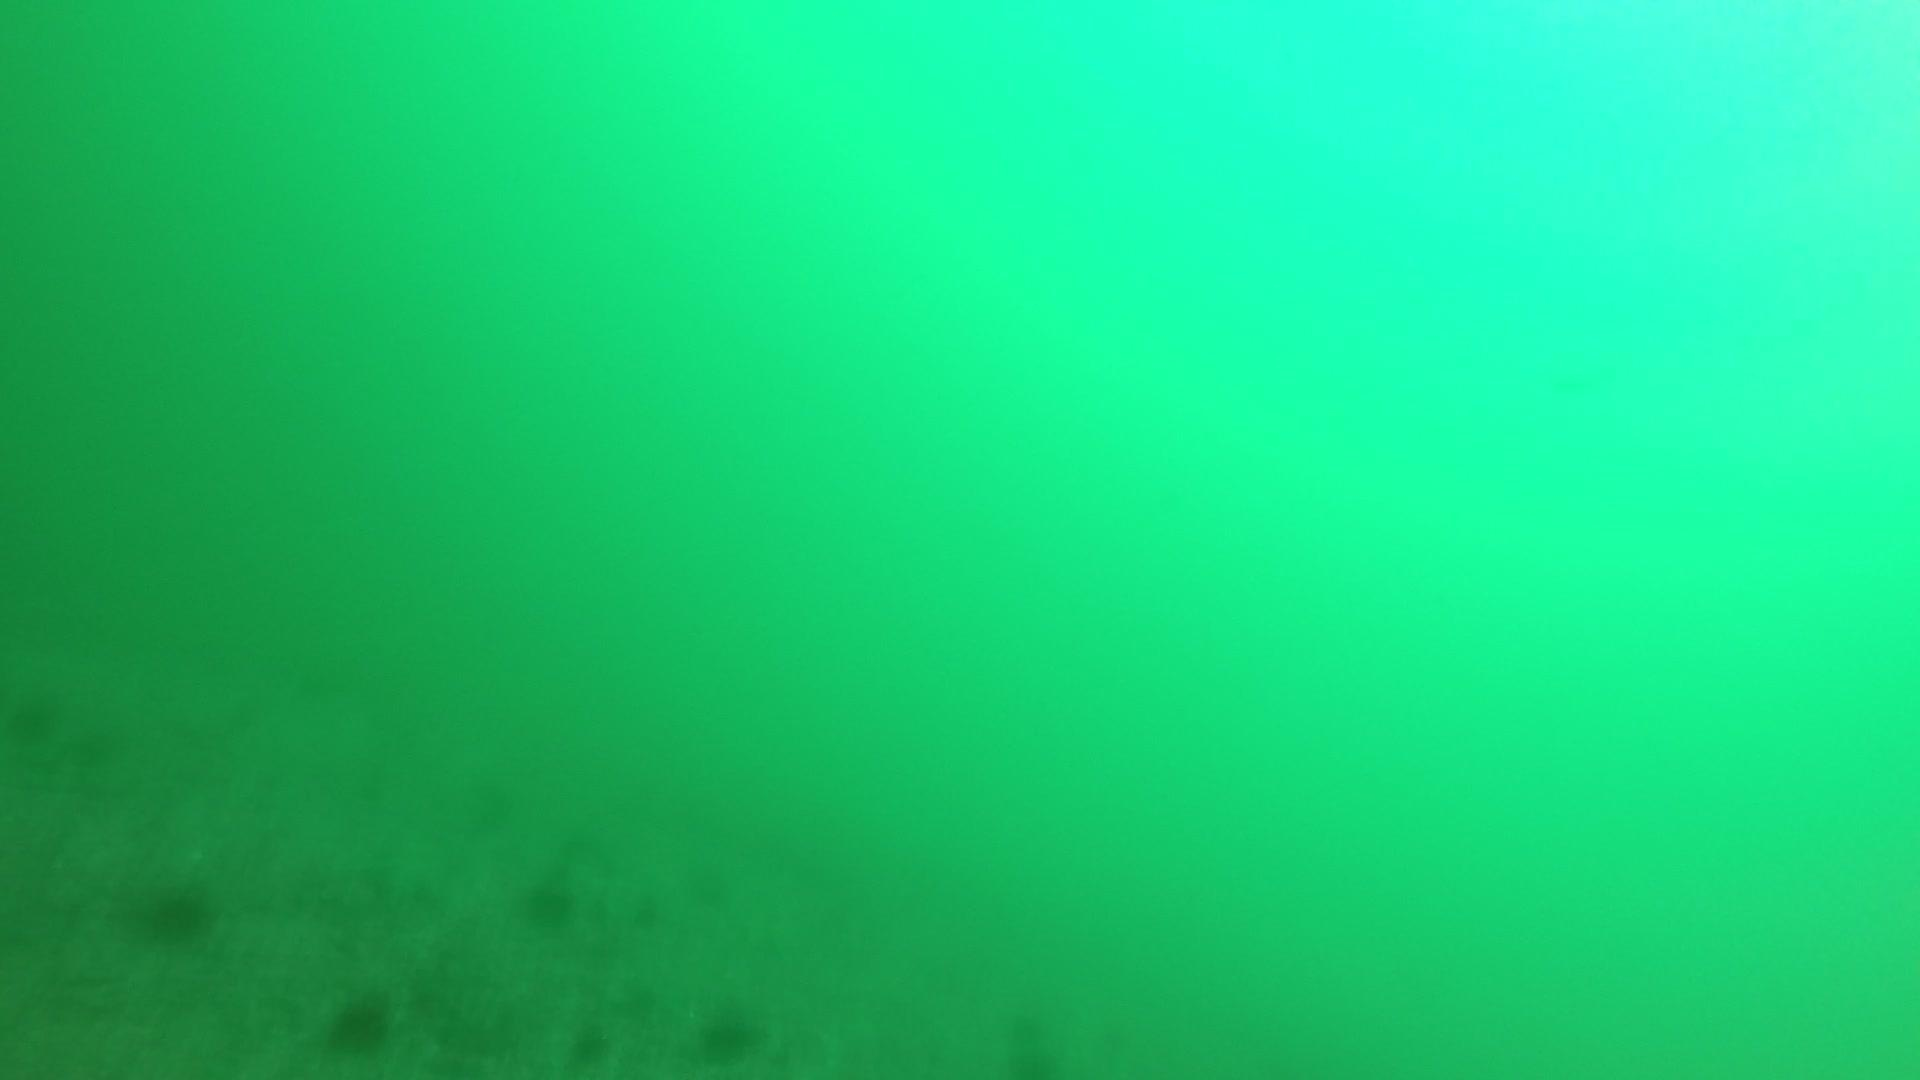echinus: (135, 874, 218, 945), (320, 986, 398, 1058), (694, 1002, 765, 1064), (3, 683, 65, 748), (517, 872, 582, 931), (564, 1021, 615, 1069)
